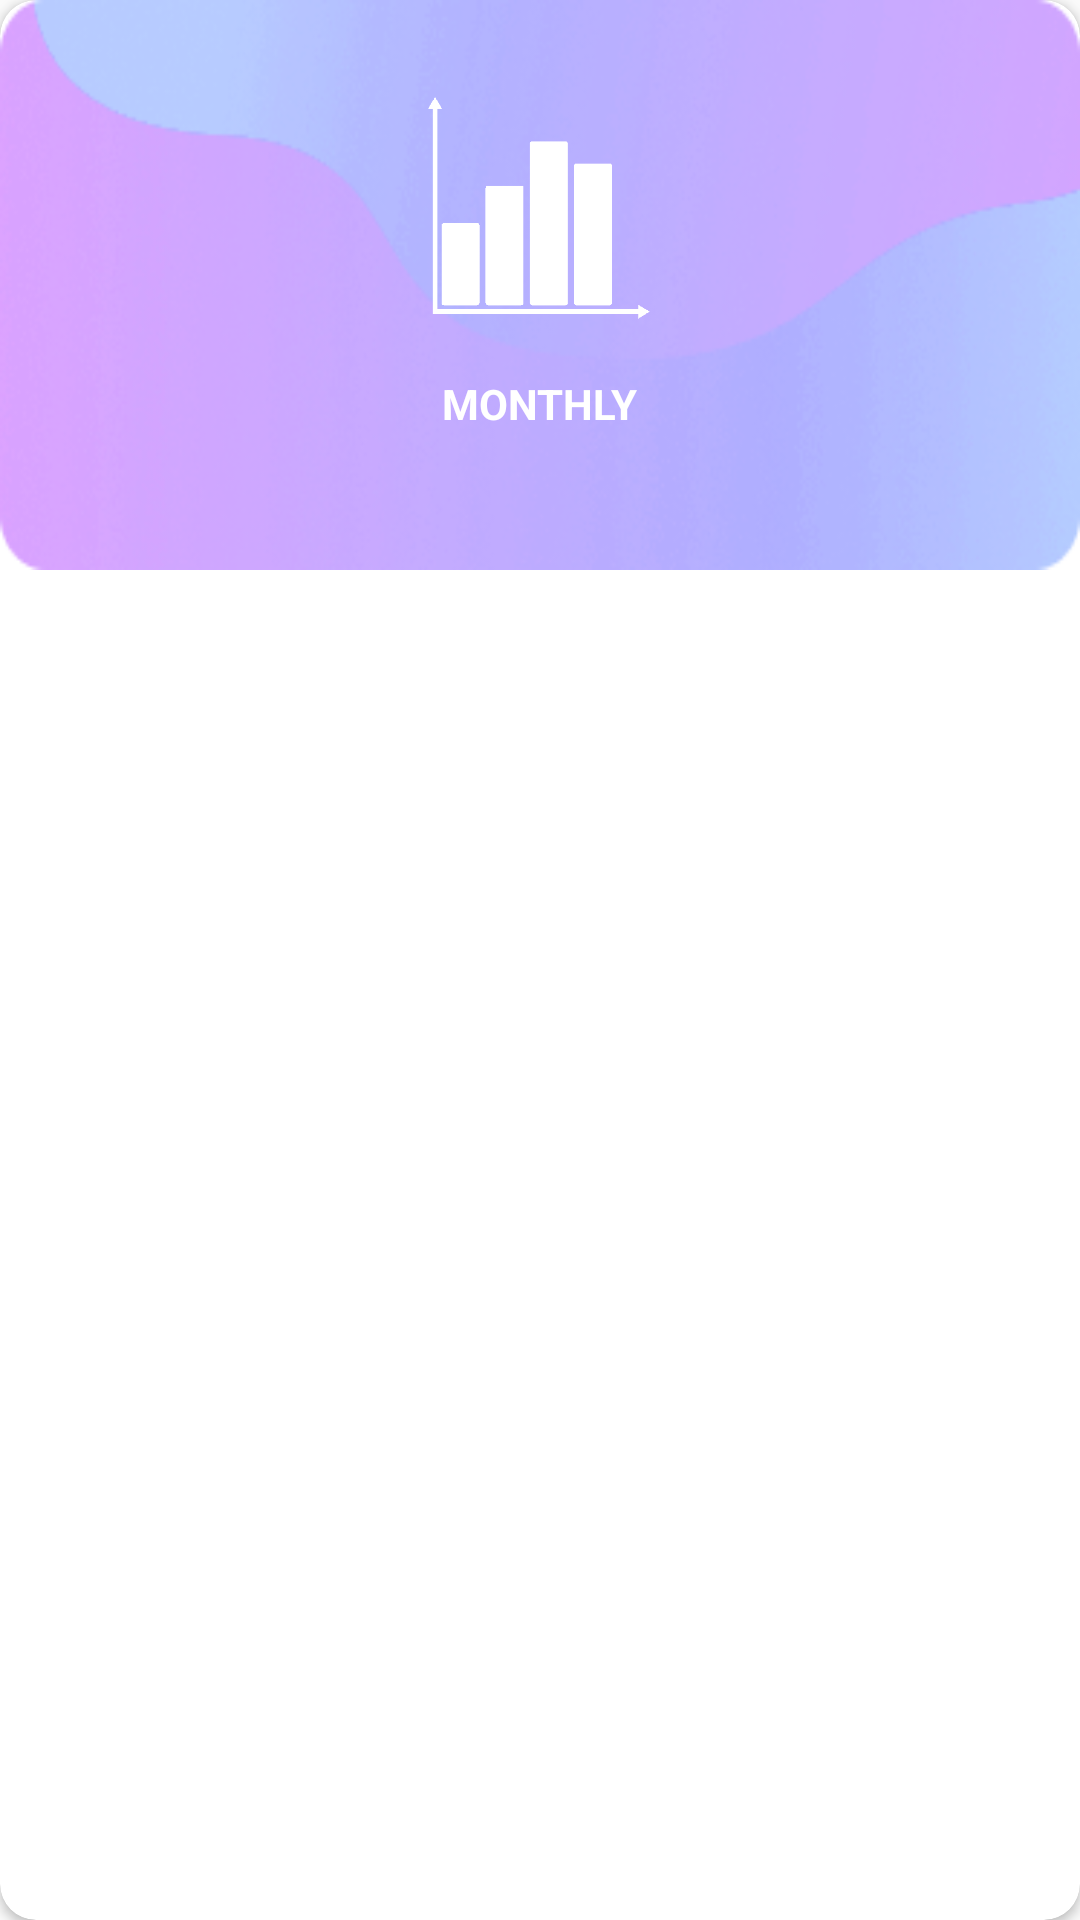

Icon click points for this 1080px x 1920px phone screenshot, format (x=x, y=y):
bar chart: (x=539, y=208)
